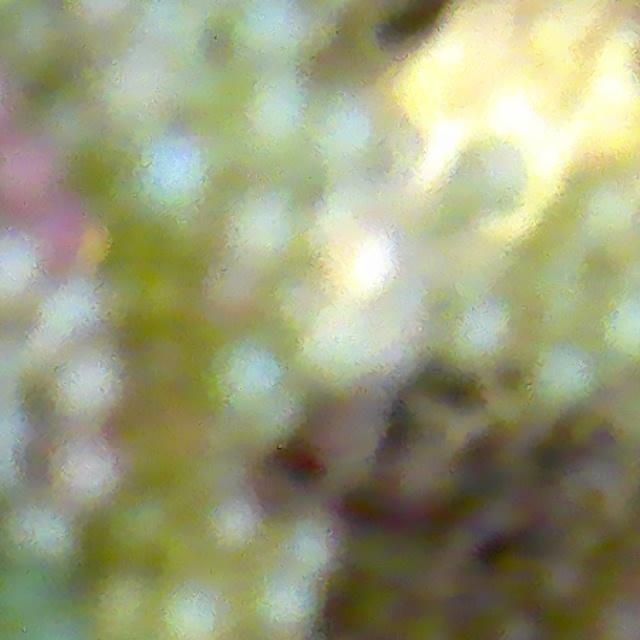SeaGrape: (195, 324, 303, 443), (221, 200, 301, 286), (304, 300, 376, 395), (129, 142, 211, 225), (332, 112, 416, 193), (231, 75, 317, 152), (2, 1, 79, 85), (4, 500, 85, 576), (52, 345, 128, 425), (232, 0, 309, 67), (469, 144, 535, 221), (526, 345, 600, 410), (572, 175, 637, 245), (56, 440, 121, 506), (0, 130, 46, 214), (456, 305, 512, 367)
